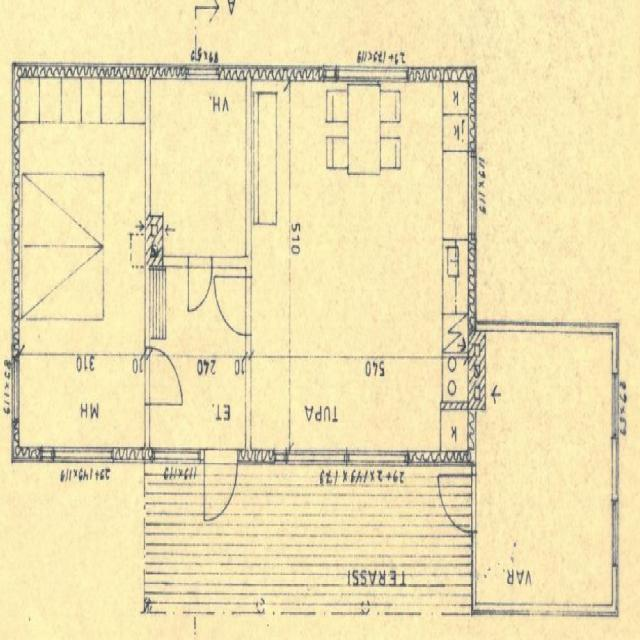door: (204, 449, 237, 525), (213, 277, 251, 336), (145, 347, 182, 405), (440, 476, 476, 532), (188, 258, 212, 310)
